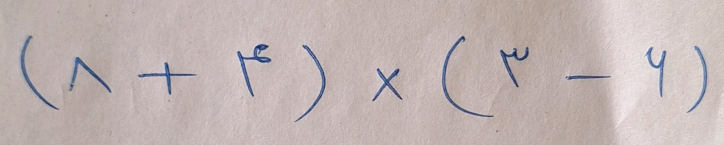character: (438, 31, 498, 121), (19, 32, 62, 112), (295, 38, 328, 123), (230, 41, 274, 99), (135, 59, 200, 96), (67, 55, 115, 98), (686, 43, 710, 116), (498, 40, 532, 90), (644, 44, 671, 100), (372, 64, 406, 104), (565, 70, 616, 87)
